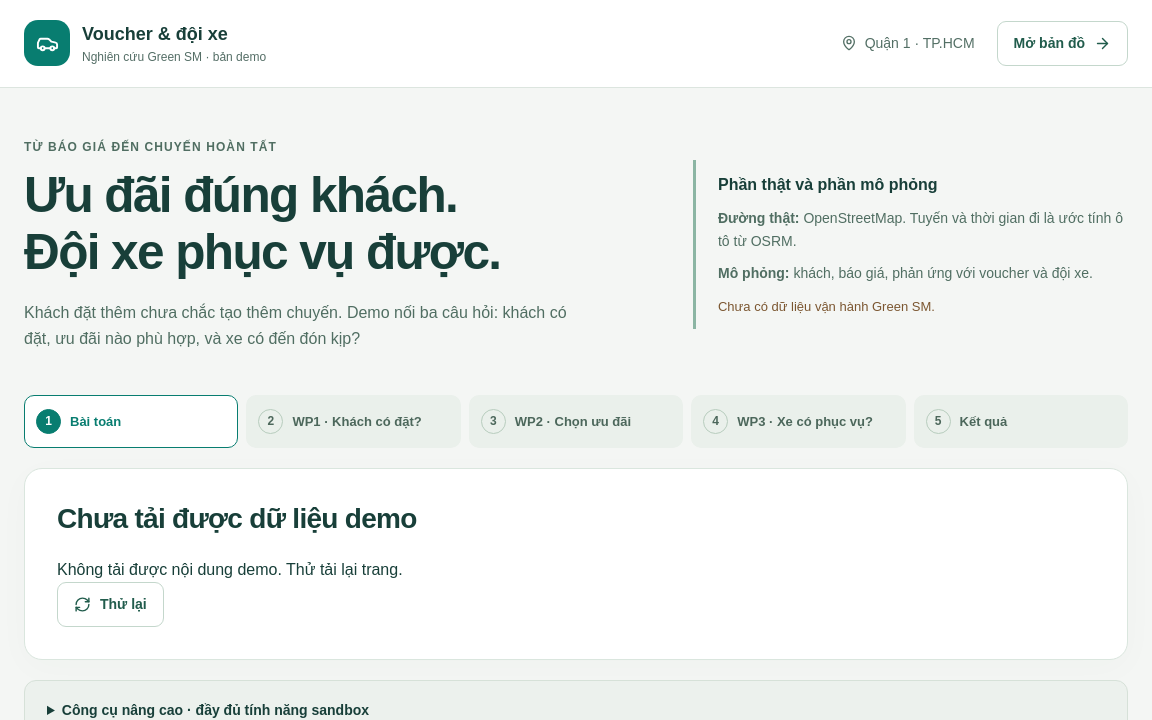
Test: guided demo uses the current verified research readings › supports retry after a missing content asset rather than showing invented examples
expect the message shows "Không tải được nội dung demo": met, box [57,561,403,578]
Click the button "Thử lại".
click(110, 605)  # box [57,582,164,627]
(page scrolled)
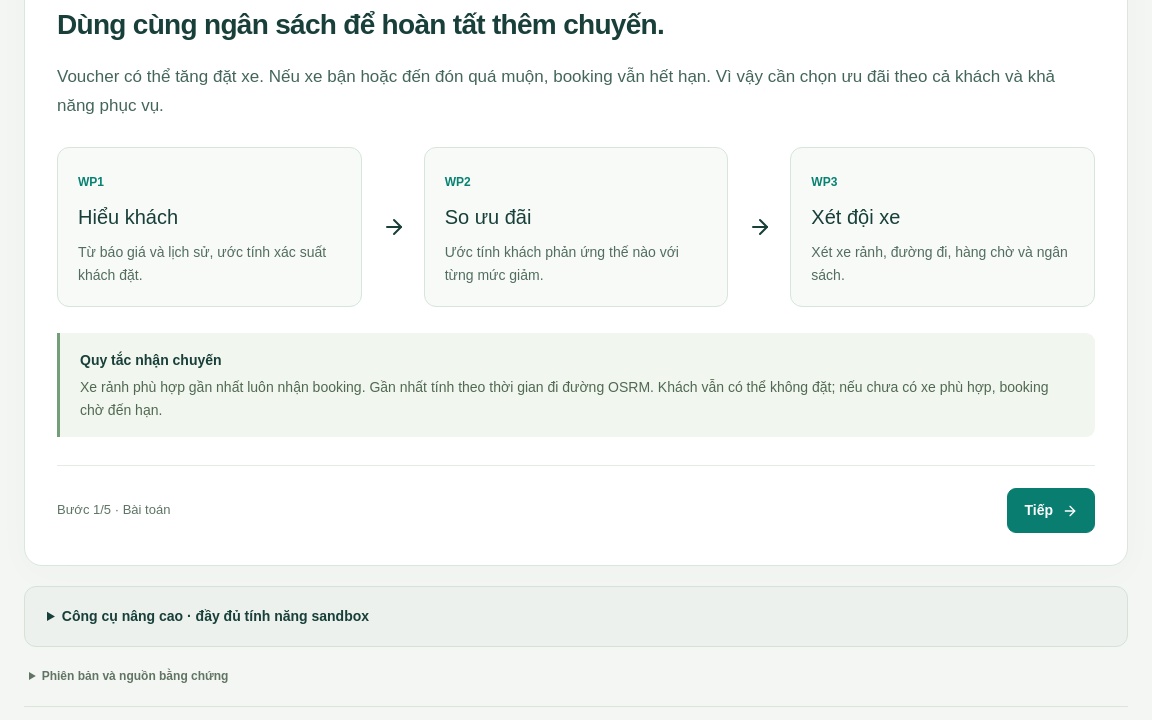
expect the text "Quy tắc nhận chuyến" is shown: met, box [80,352,222,368]
